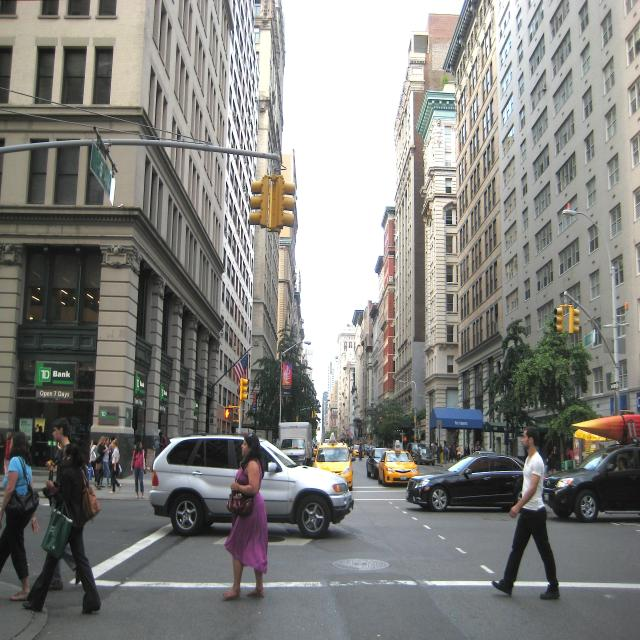body: (19, 441, 104, 617), (488, 424, 567, 603), (269, 432, 639, 470), (220, 430, 272, 603), (0, 427, 42, 604), (47, 417, 87, 592), (34, 416, 90, 441), (130, 440, 147, 500), (94, 435, 108, 490), (109, 437, 122, 494), (99, 436, 112, 489), (89, 438, 100, 486), (4, 431, 13, 477), (108, 435, 115, 486), (157, 431, 168, 454)
